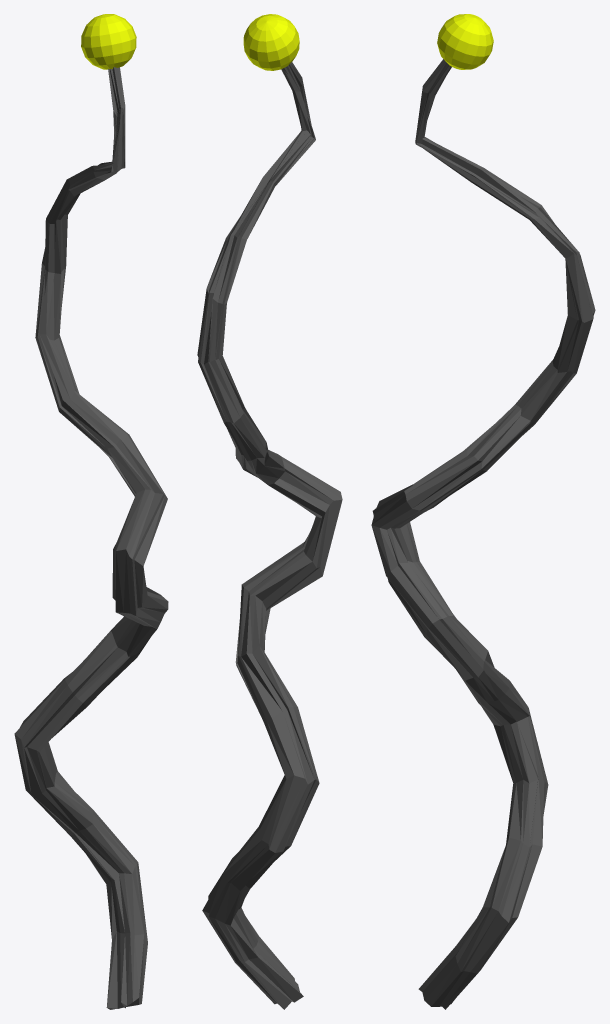
The model's file is Branch light from the floor.fbx.
The picture shows the model from 3 angles, left to right: view 1: azimuth 30°, elevation 25°; view 2: azimuth 150°, elevation 25°; view 3: azimuth 270°, elevation 25°; orthographic projection.
Parts seen in each view (by area): view 1: Cylinder, Sphere; view 2: Cylinder, Sphere; view 3: Cylinder, Sphere.
Part boxes in pixels (<box>): Cylinder: <box>14,67,168,1009</box>; Sphere: <box>81,14,136,69</box>; Cylinder: <box>197,62,342,1009</box>; Sphere: <box>243,14,299,70</box>; Cylinder: <box>371,59,595,1009</box>; Sphere: <box>437,14,493,69</box>.
Size of the model in its own units: 176 by 1439 by 295.
